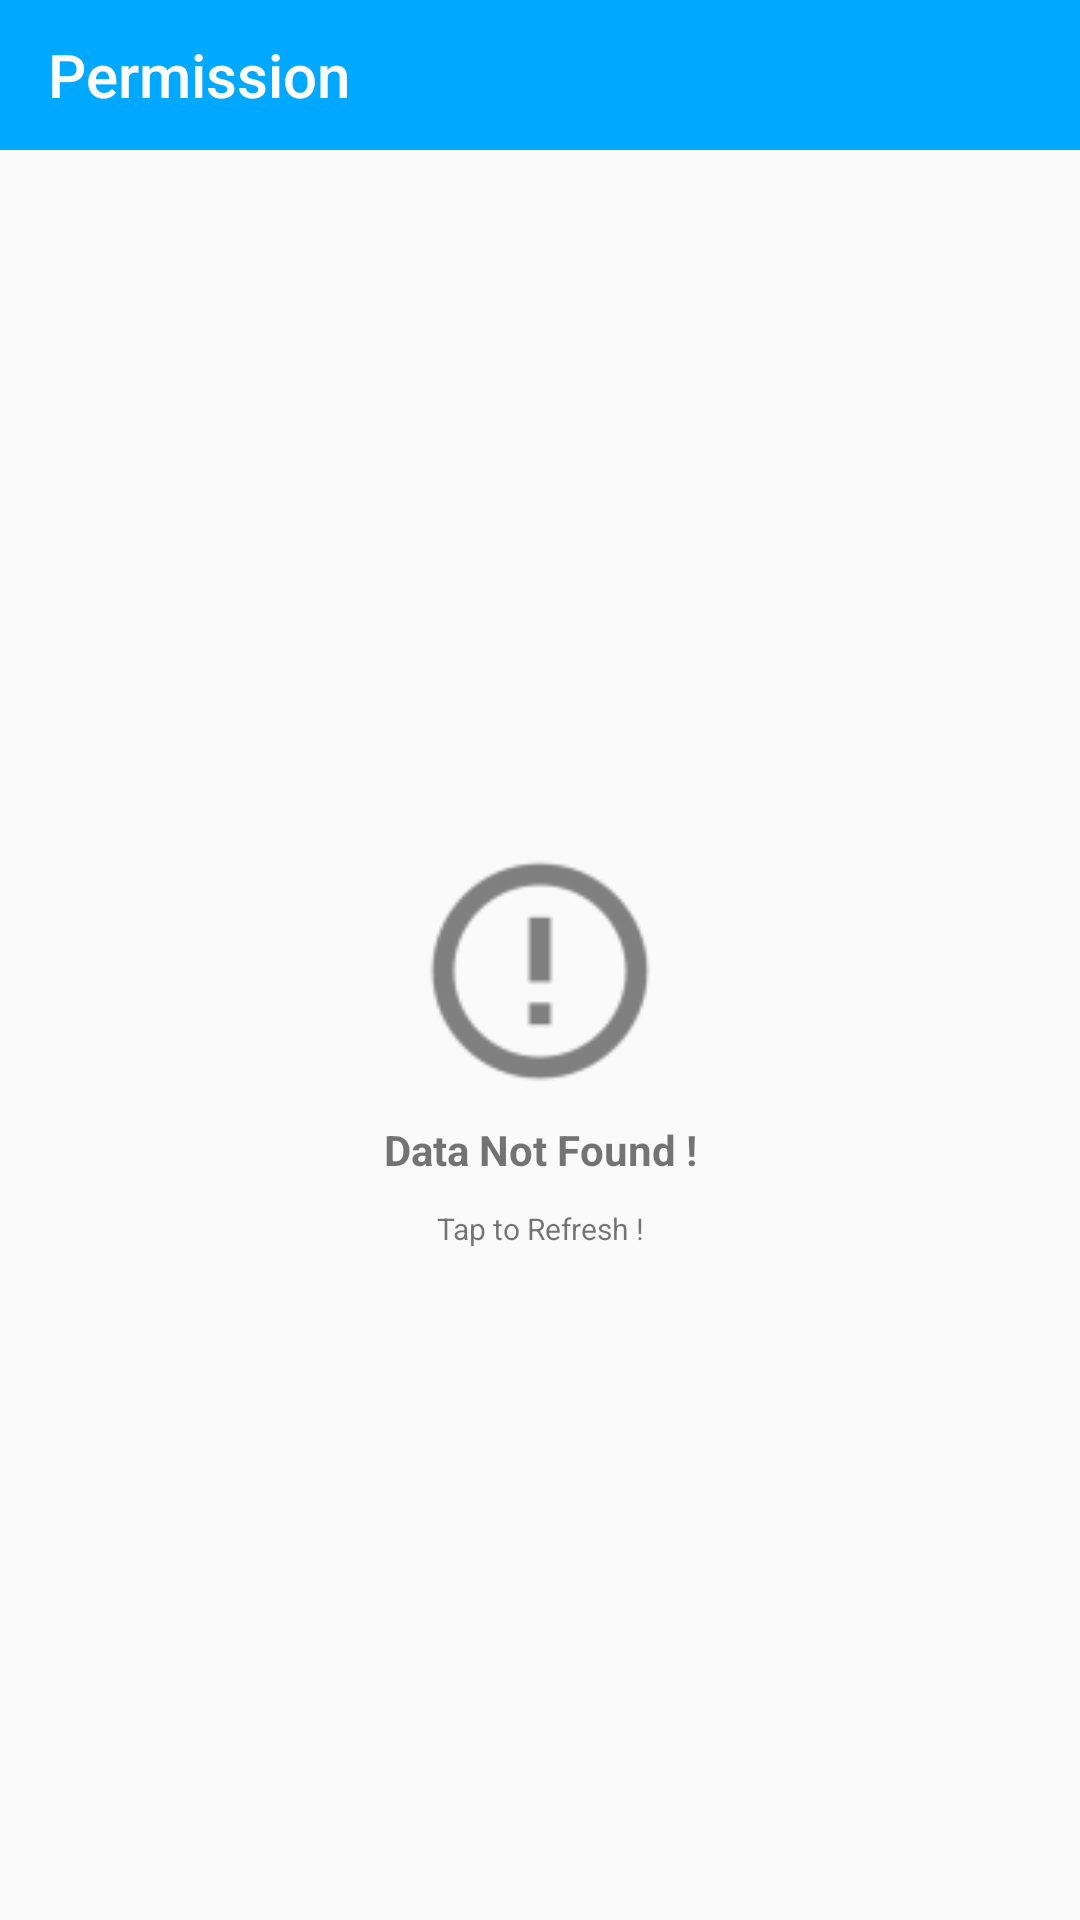

Icons on this 1080px×1920px Android screen, each with its box as (x1, y1, x2, y2):
alert: (431, 862, 649, 1080)
